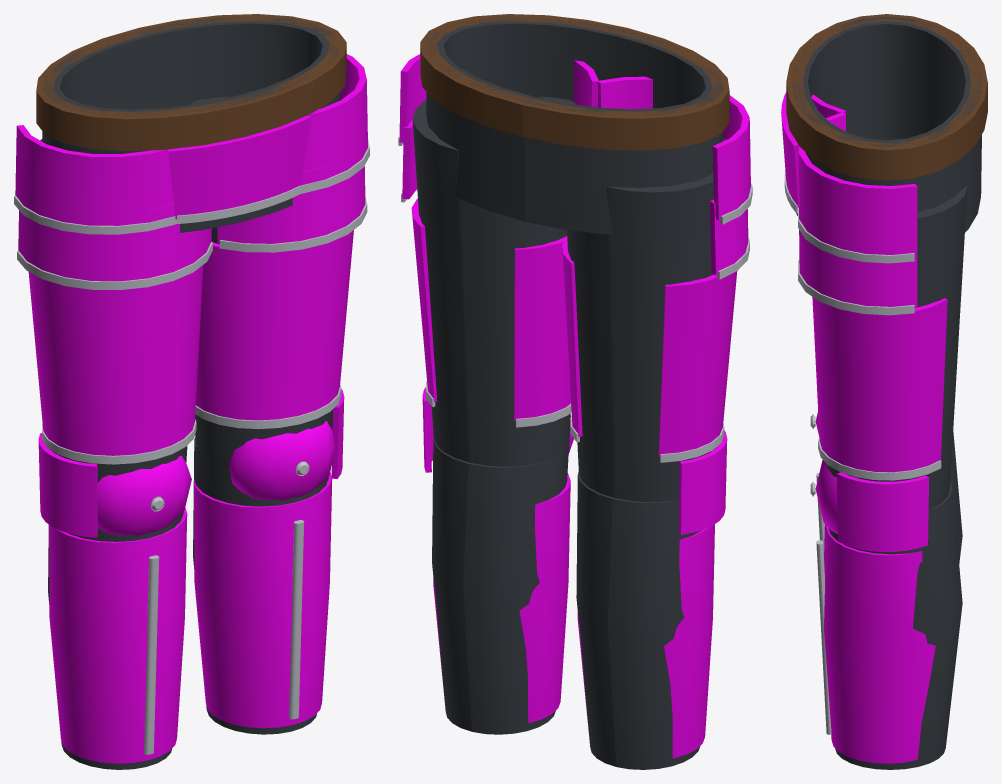
Rendered from porte_armure2_jambieres.glb.
The picture shows the model from 3 angles, left to right: view 1: azimuth 30°, elevation 25°; view 2: azimuth 150°, elevation 25°; view 3: azimuth 270°, elevation 25°; orthographic projection. The views are drawn at different scales.
Parts seen in each view (by area): view 1: cuisse_d__jambieres_teinte.010, jambe_d__jambieres_teinte.010, cuisse_g__jambieres_teinte.010, jambe_g__jambieres_teinte.010, bassin__jambieres_teinte_sombre.008, bassin__jambieres_sac_cuir.004, bassin__jambieres_teinte.010, cuisse_d__jambieres_rivet.002, cuisse_g__jambieres_teinte_sombre.008, cuisse_g__jambieres_rivet.002, jambe_d__jambieres_rivet.006, jambe_g__jambieres_rivet.006 (+4 smaller); view 2: bassin__jambieres_teinte_sombre.008, cuisse_d__jambieres_teinte_sombre.008, cuisse_g__jambieres_teinte_sombre.008, jambe_g__jambieres_teinte_sombre.008, jambe_d__jambieres_teinte_sombre.008, cuisse_d__jambieres_teinte.010, bassin__jambieres_sac_cuir.004, cuisse_g__jambieres_teinte.010, jambe_d__jambieres_teinte.010, jambe_g__jambieres_teinte.010, cuisse_d__jambieres_rivet.002, cuisse_g__jambieres_rivet.002; view 3: cuisse_g__jambieres_teinte.010, jambe_g__jambieres_teinte.010, bassin__jambieres_teinte_sombre.008, bassin__jambieres_sac_cuir.004, jambe_g__jambieres_teinte_sombre.008, cuisse_g__jambieres_teinte_sombre.008, cuisse_g__jambieres_rivet.002, bassin__jambieres_teinte.010, jambe_g__jambieres_rivet.006, jambe_d__jambieres_teinte_sombre.008.
Part boxes in pixels (x1,y1,x2,y2): cuisse_d__jambieres_teinte.010: [15, 125, 211, 455]; jambe_d__jambieres_teinte.010: [38, 433, 191, 763]; cuisse_g__jambieres_teinte.010: [196, 54, 367, 420]; jambe_g__jambieres_teinte.010: [194, 389, 344, 728]; bassin__jambieres_teinte_sombre.008: [42, 17, 340, 232]; bassin__jambieres_sac_cuir.004: [36, 14, 346, 151]; bassin__jambieres_teinte.010: [168, 115, 311, 219]; cuisse_d__jambieres_rivet.002: [14, 196, 212, 464]; cuisse_g__jambieres_teinte_sombre.008: [190, 96, 333, 502]; cuisse_g__jambieres_rivet.002: [195, 139, 369, 429]; jambe_d__jambieres_rivet.006: [144, 496, 164, 754]; jambe_g__jambieres_rivet.006: [289, 461, 309, 719]; bassin__jambieres_teinte_sombre.008: [426, 16, 723, 234]; cuisse_d__jambieres_teinte_sombre.008: [567, 139, 725, 502]; cuisse_g__jambieres_teinte_sombre.008: [412, 96, 575, 486]; jambe_g__jambieres_teinte_sombre.008: [432, 438, 569, 734]; jambe_d__jambieres_teinte_sombre.008: [576, 472, 701, 769]; cuisse_d__jambieres_teinte.010: [562, 76, 750, 456]; bassin__jambieres_sac_cuir.004: [420, 14, 729, 150]; cuisse_g__jambieres_teinte.010: [399, 54, 598, 421]; jambe_d__jambieres_teinte.010: [577, 430, 727, 758]; jambe_g__jambieres_teinte.010: [422, 387, 573, 723]; cuisse_d__jambieres_rivet.002: [570, 183, 752, 462]; cuisse_g__jambieres_rivet.002: [398, 136, 571, 427]; cuisse_g__jambieres_teinte.010: [798, 112, 947, 472]; jambe_g__jambieres_teinte.010: [815, 460, 935, 763]; bassin__jambieres_teinte_sombre.008: [792, 17, 982, 232]; bassin__jambieres_sac_cuir.004: [786, 14, 987, 180]; jambe_g__jambieres_teinte_sombre.008: [828, 482, 962, 769]; cuisse_g__jambieres_teinte_sombre.008: [826, 185, 967, 553]; cuisse_g__jambieres_rivet.002: [798, 207, 941, 480]; bassin__jambieres_teinte.010: [781, 92, 799, 207]; jambe_g__jambieres_rivet.006: [810, 481, 831, 734]; jambe_d__jambieres_teinte_sombre.008: [950, 432, 962, 563].
Size of the model in its own units: 0.4379 by 0.83 by 0.246.
